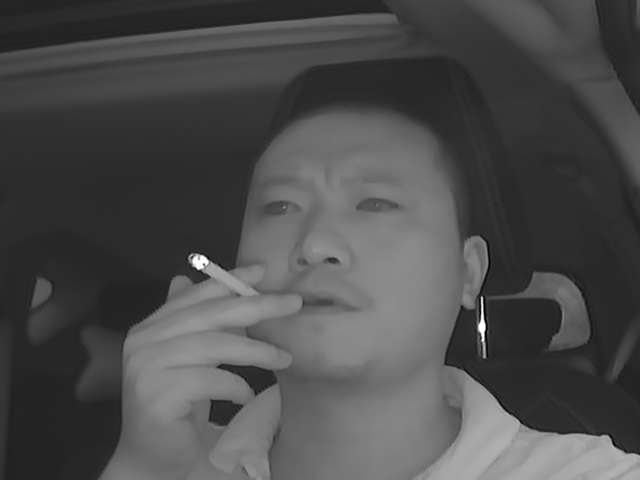hand: (147, 264, 299, 426)
